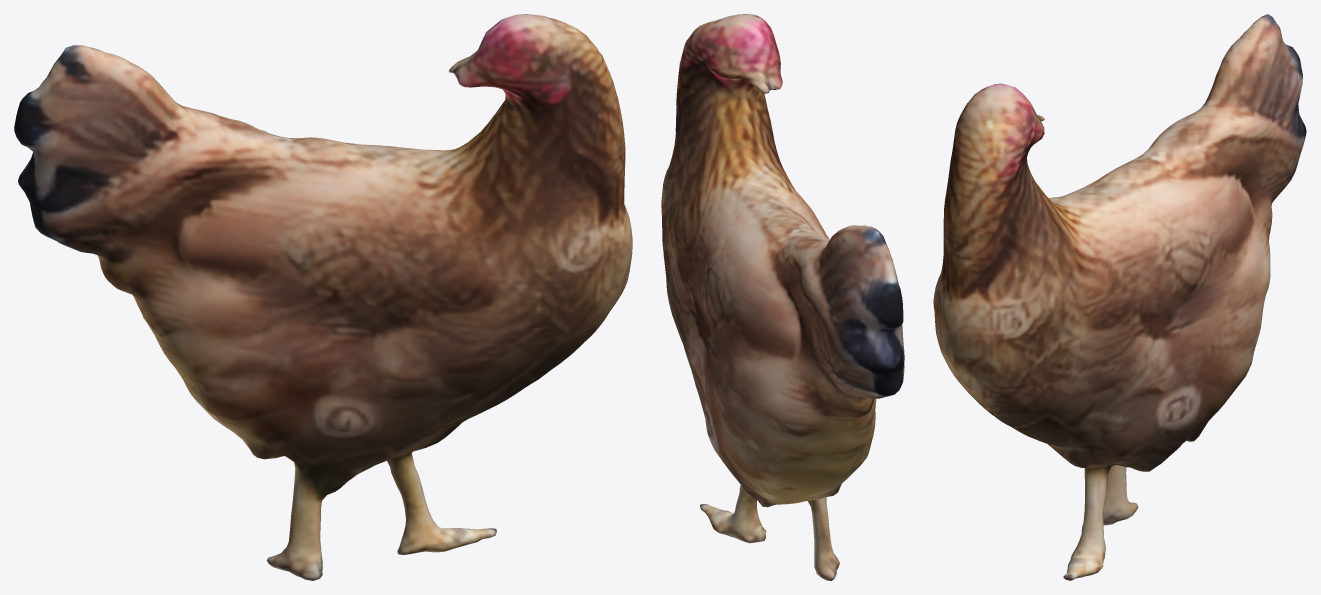
Rendered from joven.glb.
3 views of the same model, side by side, from view 1: azimuth 30°, elevation 25°; view 2: azimuth 150°, elevation 25°; view 3: azimuth 270°, elevation 25° (orthographic). The views are drawn at different scales.
Parts seen in each view (by area): view 1: mesh; view 2: mesh; view 3: mesh.
Part boxes in pixels (left/top/right/bottom): mesh: left=14, top=14, right=632, bottom=580; mesh: left=661, top=14, right=904, bottom=580; mesh: left=933, top=14, right=1306, bottom=580.
Bounding box in the file's own units: 1.33 × 1.63 × 1.1.
1 material, 1 textured.
